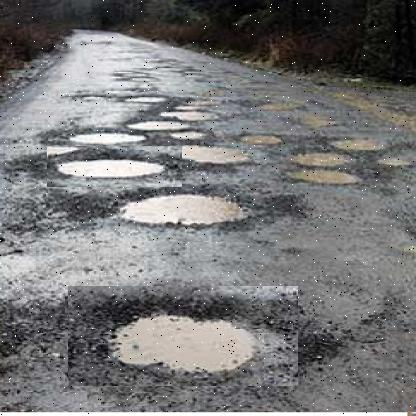pothole: (67, 286, 298, 387)
pothole_water: (104, 188, 274, 229), (46, 146, 182, 188)
